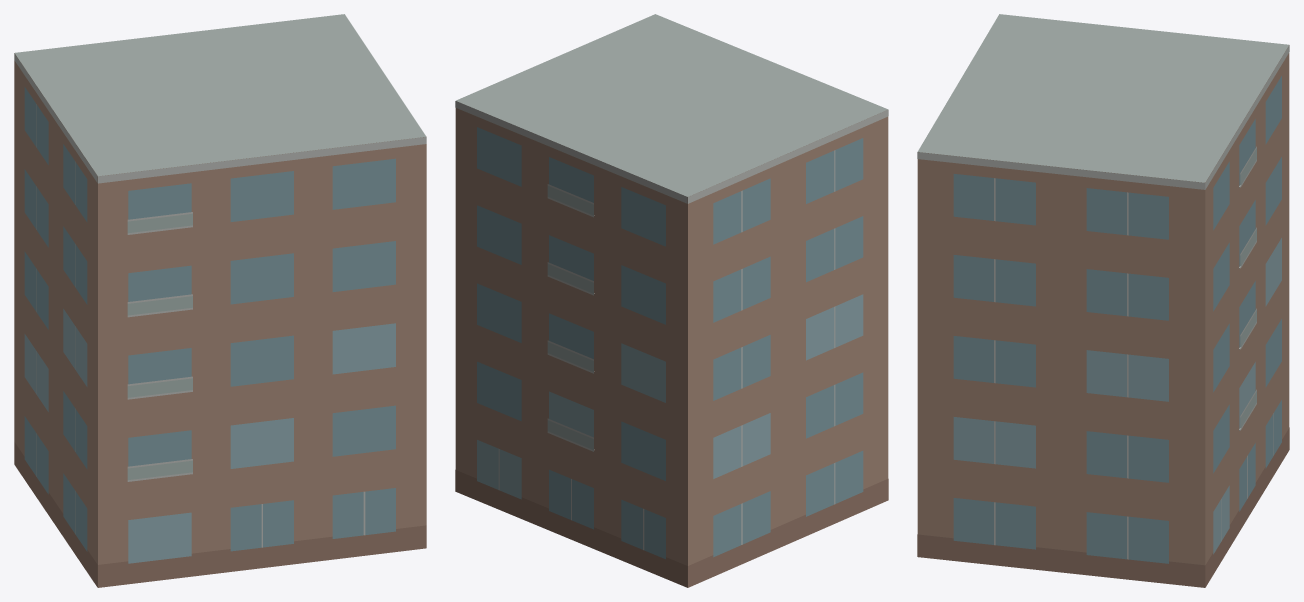
File: survey-upis-32527499.glb
3 views of the same model, side by side, from view 1: azimuth 30°, elevation 25°; view 2: azimuth 150°, elevation 25°; view 3: azimuth 270°, elevation 25° (orthographic). The views are drawn at different scales.
Parts seen in each view (by area): view 1: survey-upis-32527499.tmp; view 2: survey-upis-32527499.tmp; view 3: survey-upis-32527499.tmp.
Part boxes in pixels (<box>): survey-upis-32527499.tmp: <box>14,14,426,587</box>; survey-upis-32527499.tmp: <box>455,14,888,587</box>; survey-upis-32527499.tmp: <box>917,14,1289,587</box>.
Size of the model in its own units: 12.34 by 13.8 by 11.5.
